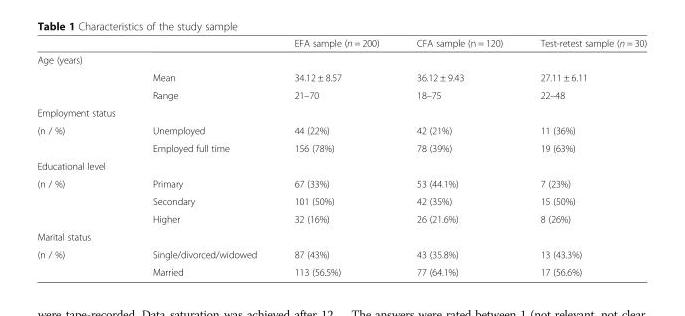table: (36, 37, 646, 277)
table column: (133, 37, 274, 277), (520, 37, 646, 277), (274, 37, 397, 277), (397, 37, 520, 277), (36, 37, 133, 277)
table column header: (36, 37, 646, 51)
table projected row header: (36, 103, 646, 121), (36, 156, 646, 174), (36, 227, 646, 245), (36, 51, 646, 68)
table row: (36, 85, 646, 103), (36, 103, 646, 121), (36, 121, 646, 139), (36, 156, 646, 174), (36, 174, 646, 192), (36, 209, 646, 227), (36, 227, 646, 245), (36, 51, 646, 68), (36, 68, 646, 85), (36, 139, 646, 156), (36, 192, 646, 209), (36, 245, 646, 262), (36, 262, 646, 277), (36, 37, 646, 51)
table spanning cell: (36, 174, 133, 227), (36, 121, 133, 156), (36, 245, 133, 277)
